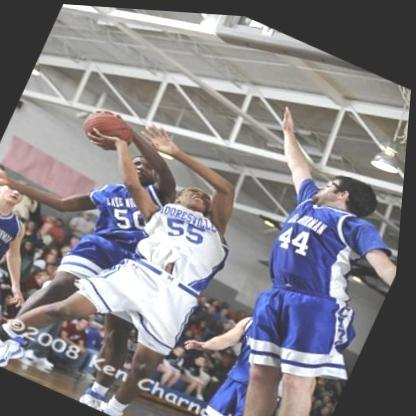basketball: (77, 102, 144, 160)
